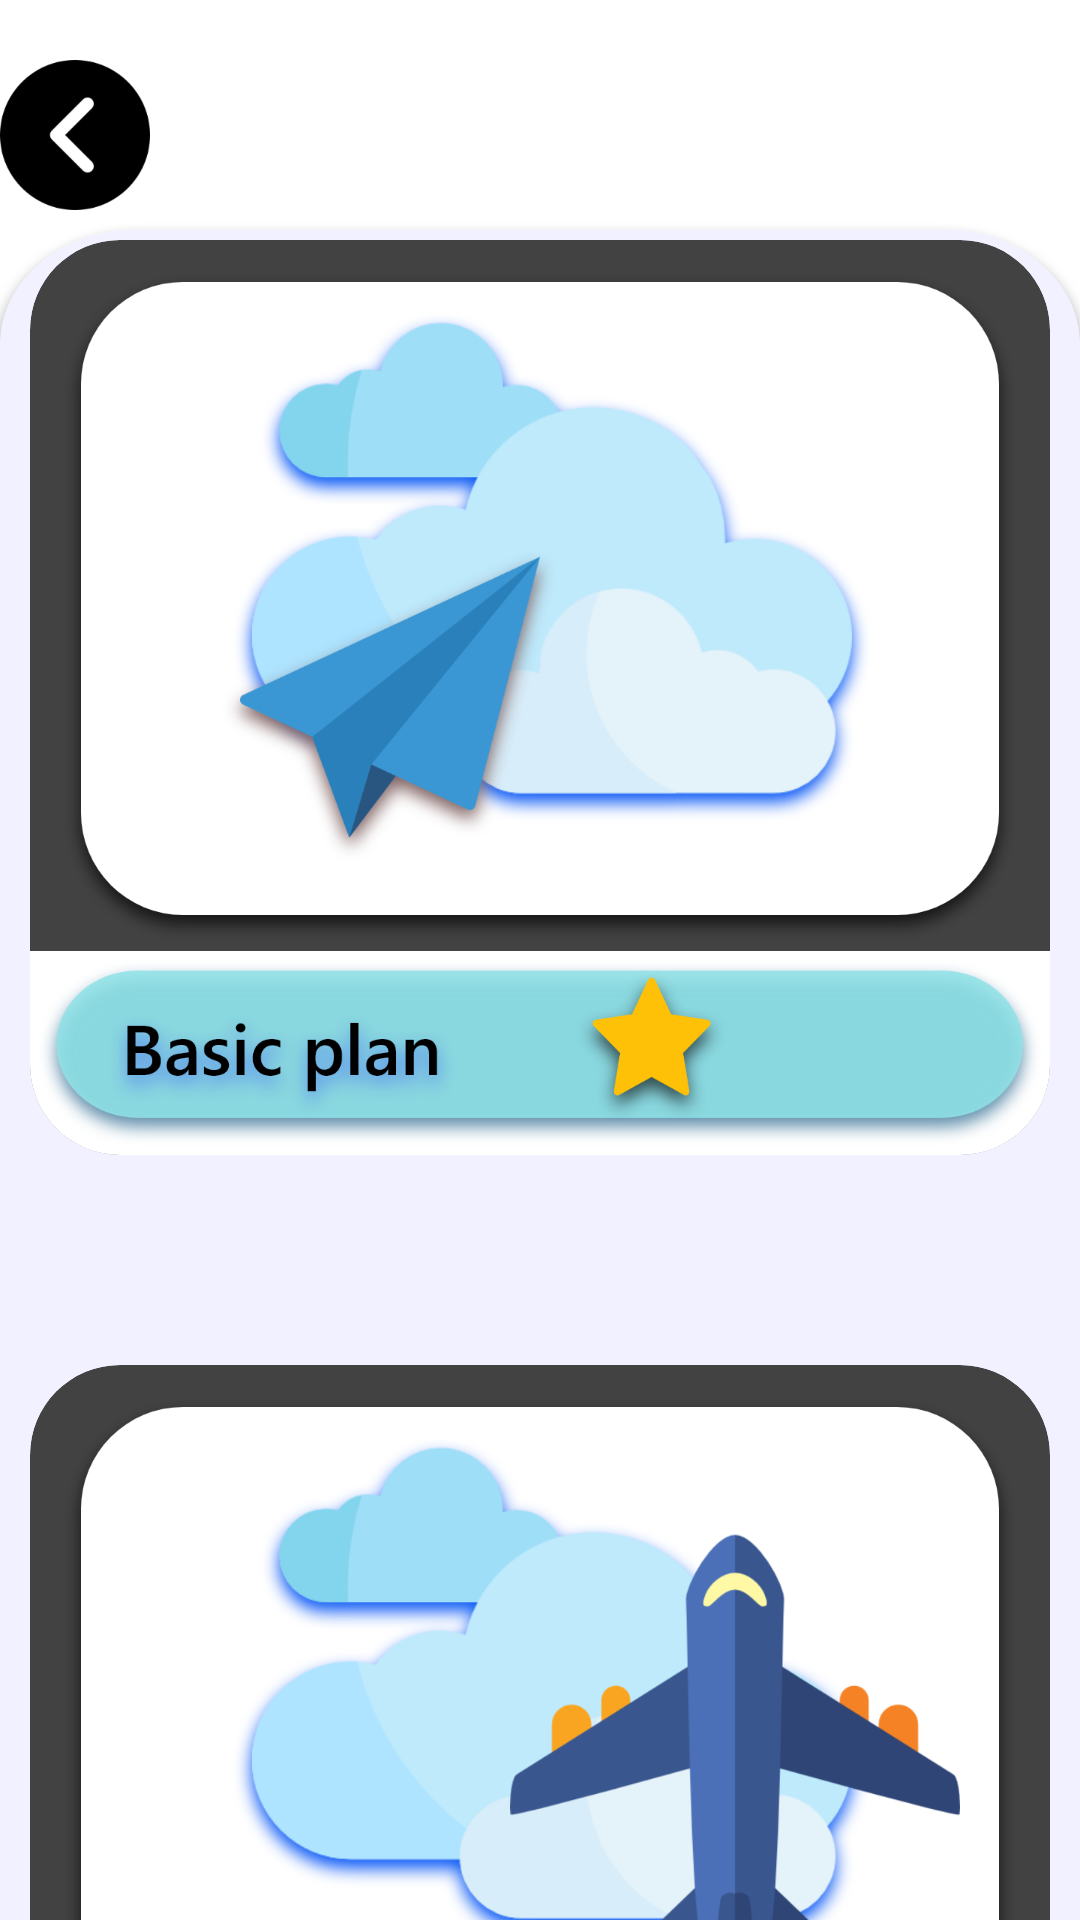

Locate icon controls on the screen. Image size 1080 x 1920, boxes as detection(x1, y1, x2, y2).
previous: detection(0, 60, 150, 210)
